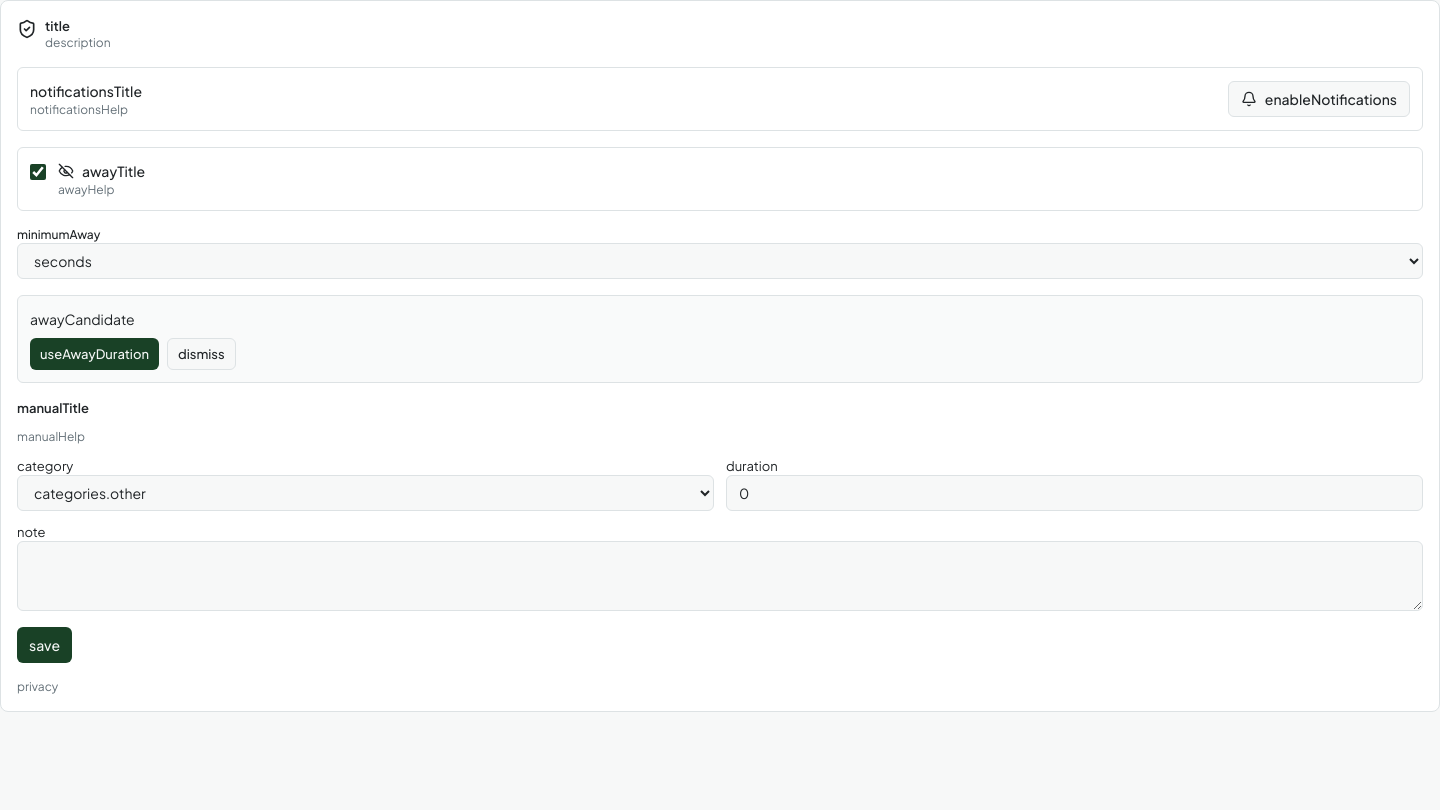
Test: Focus V2 attention panel › only prefills suggested page-away duration after explicit acceptance
Step 1. Click the button "useAwayDuration" → {"x": 94, "y": 354}, box [30,338,159,370]
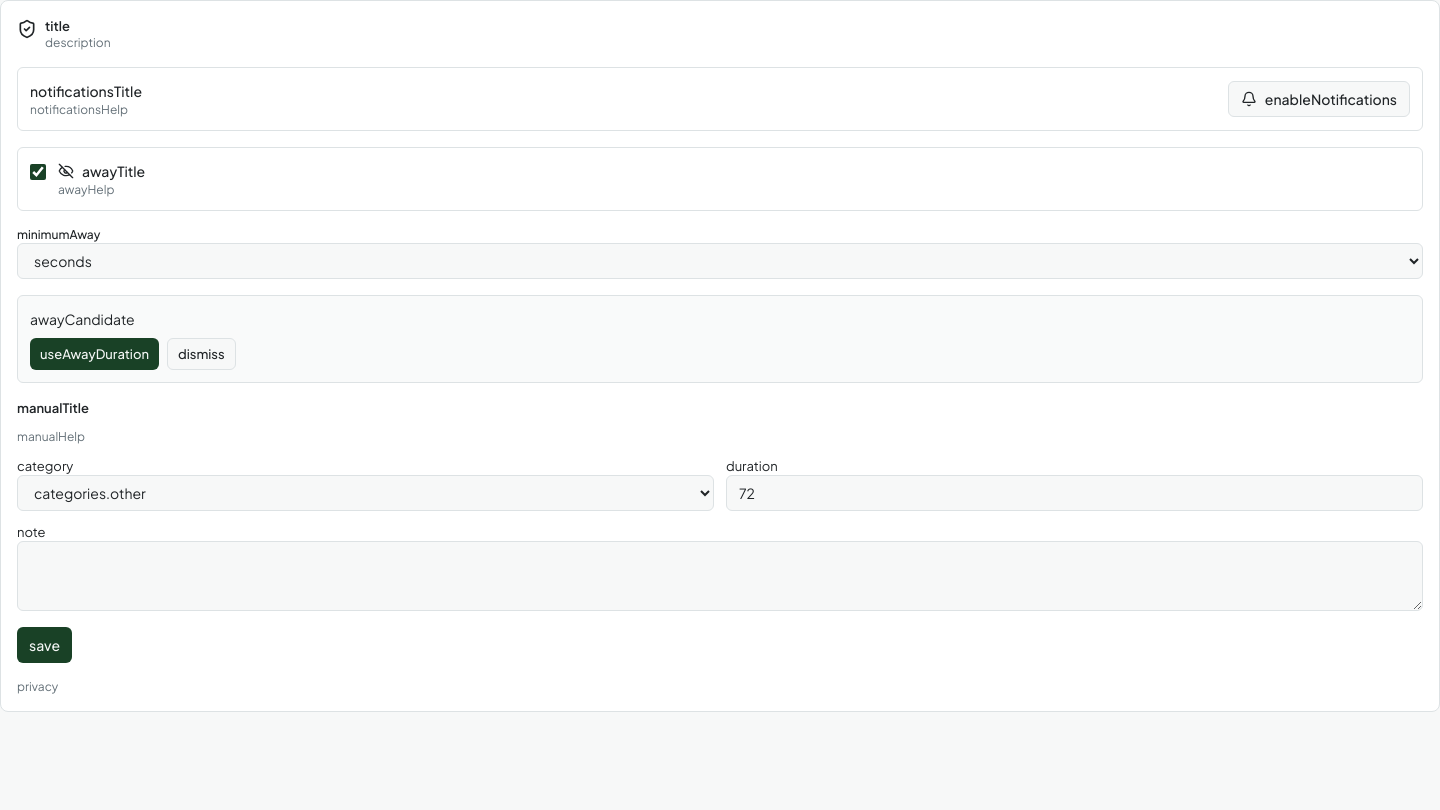
Check: the number field labelled "duration" holds "72", box [726,475,1423,511]
